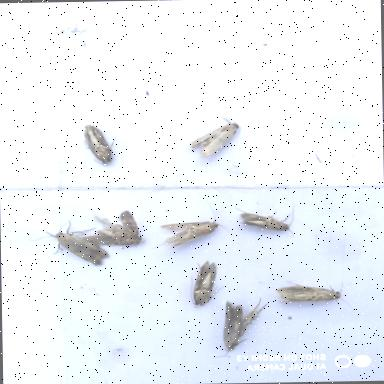pbw: (28, 212, 111, 267), (151, 200, 229, 249), (274, 279, 360, 319), (214, 296, 270, 357), (81, 210, 146, 248), (188, 116, 242, 158), (234, 203, 296, 237), (190, 260, 225, 308), (84, 123, 118, 165)
